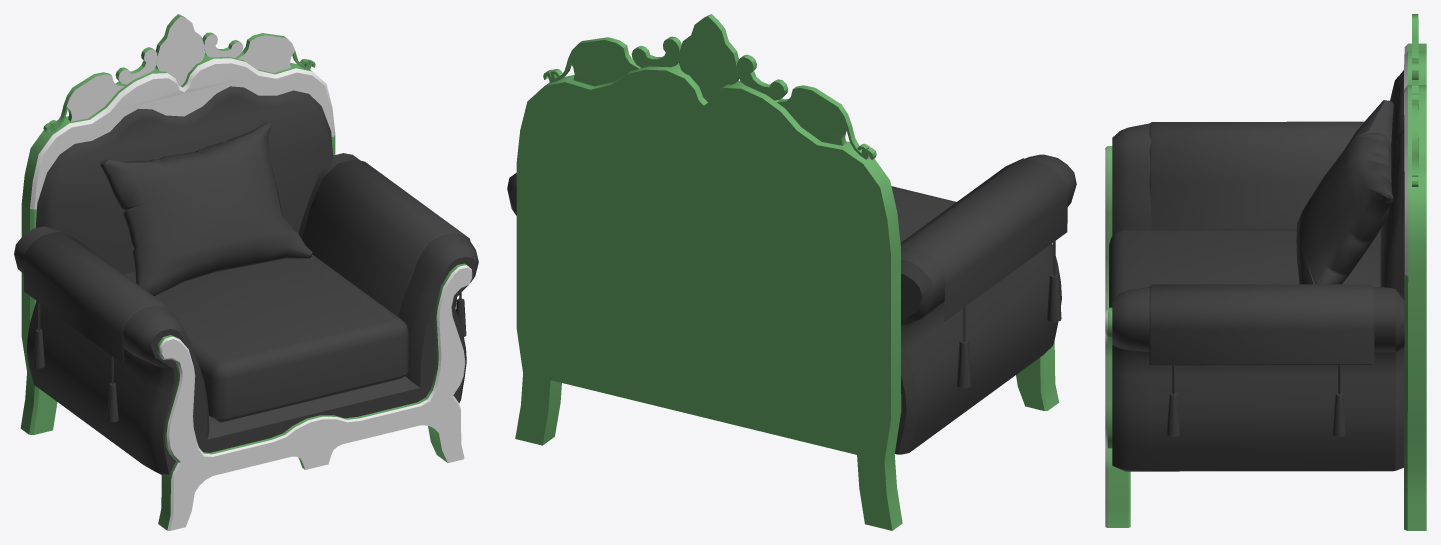
File: LSSF2210E.FBX
3 views of the same model, side by side, from view 1: azimuth 30°, elevation 25°; view 2: azimuth 150°, elevation 25°; view 3: azimuth 270°, elevation 25° (orthographic). The views are drawn at different scales.
Visible parts, largest first — view 1: LSSF2210E; view 2: LSSF2210E; view 3: LSSF2210E.
Part boxes in pixels (left/top/right/bottom): LSSF2210E: left=14, top=14, right=478, bottom=530; LSSF2210E: left=507, top=14, right=1076, bottom=530; LSSF2210E: left=1105, top=14, right=1426, bottom=530.
Size of the model in its own units: 132 by 90.6 by 133.
